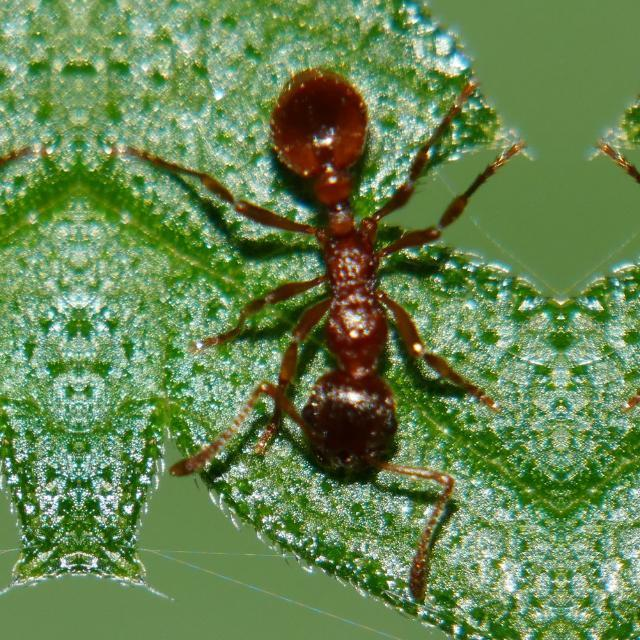Myrmica: (140, 0, 508, 540)
